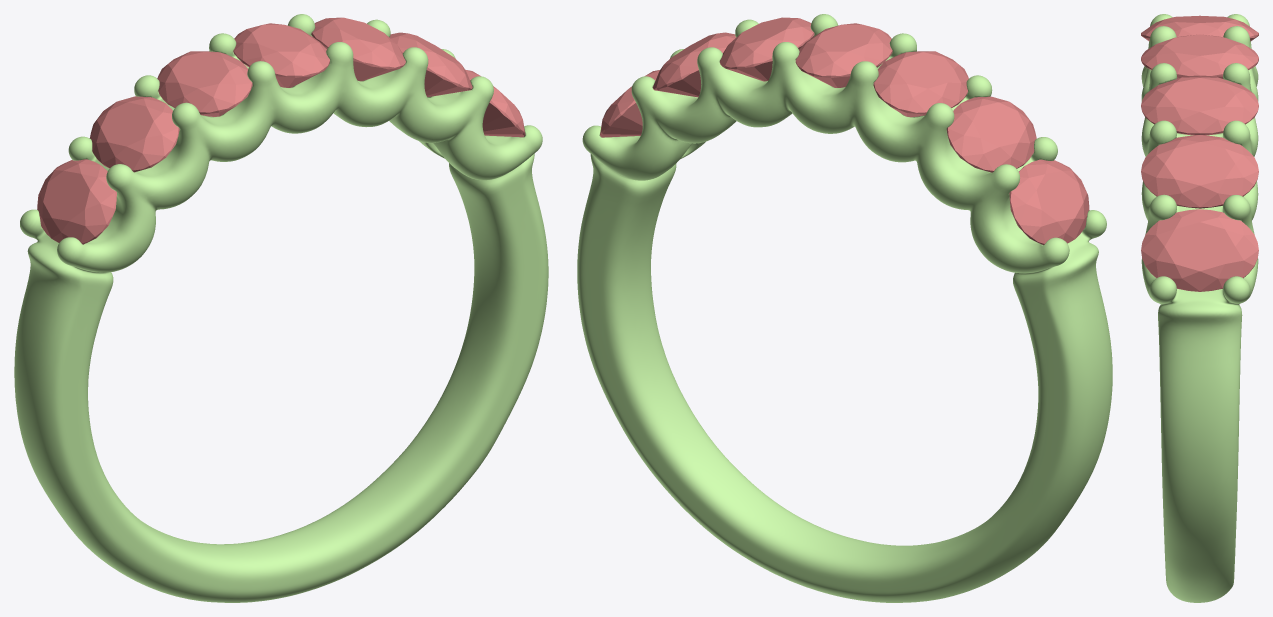
File: BE2D4922_RENDER.glb
3 views of the same model, side by side, from view 1: azimuth 30°, elevation 25°; view 2: azimuth 150°, elevation 25°; view 3: azimuth 270°, elevation 25° (orthographic). The views are drawn at different scales.
Visible parts, largest first — view 1: Metal03, Diamond_Oval_Gem_BD.004, Diamond_Oval_Gem_BD.005, Diamond_Oval_Gem_BD.006, Diamond_Oval_Gem_BD, Diamond_Oval_Gem_BD.001, Diamond_Oval_Gem_BD.002, Diamond_Oval_Gem_BD.003; view 2: Metal03, Diamond_Oval_Gem_BD.004, Diamond_Oval_Gem_BD.005, Diamond_Oval_Gem_BD.006, Diamond_Oval_Gem_BD, Diamond_Oval_Gem_BD.001, Diamond_Oval_Gem_BD.002, Diamond_Oval_Gem_BD.003; view 3: Metal03, Diamond_Oval_Gem_BD.003, Diamond_Oval_Gem_BD.002, Diamond_Oval_Gem_BD.001, Diamond_Oval_Gem_BD, Diamond_Oval_Gem_BD.006.
Part boxes in pixels (x1,y1,x2,y2): Metal03: (14,14,548,602); Diamond_Oval_Gem_BD.004: (37,159,116,244); Diamond_Oval_Gem_BD.005: (89,96,179,172); Diamond_Oval_Gem_BD.006: (157,51,252,116); Diamond_Oval_Gem_BD: (233,23,329,87); Diamond_Oval_Gem_BD.001: (311,17,405,81); Diamond_Oval_Gem_BD.002: (389,32,472,97); Diamond_Oval_Gem_BD.003: (465,69,525,137); Metal03: (577,14,1112,602); Diamond_Oval_Gem_BD.004: (1009,159,1089,244); Diamond_Oval_Gem_BD.005: (946,96,1036,172); Diamond_Oval_Gem_BD.006: (873,51,968,117); Diamond_Oval_Gem_BD: (795,23,892,87); Diamond_Oval_Gem_BD.001: (720,17,814,81); Diamond_Oval_Gem_BD.002: (652,32,735,97); Diamond_Oval_Gem_BD.003: (600,70,659,137); Metal03: (1141,14,1258,602); Diamond_Oval_Gem_BD.003: (1141,209,1258,291); Diamond_Oval_Gem_BD.002: (1141,135,1258,208); Diamond_Oval_Gem_BD.001: (1141,76,1258,135); Diamond_Oval_Gem_BD: (1141,34,1258,78); Diamond_Oval_Gem_BD.006: (1141,15,1258,41).
Bounding box in the file's own units: 20.81 × 21.34 × 4.3.
